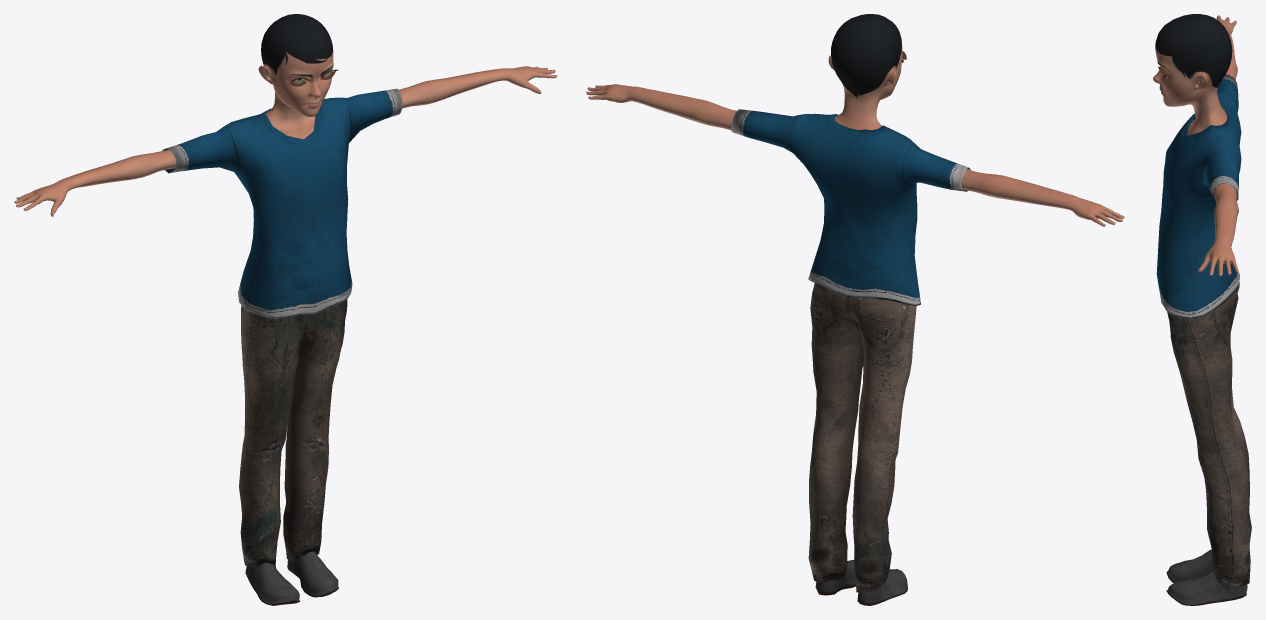
File: child2.obj
3 renders of one model, left to right at view 1: azimuth 30°, elevation 25°; view 2: azimuth 150°, elevation 25°; view 3: azimuth 270°, elevation 25°, orthographic.
Parts seen in each view (by area): view 1: Tops, Bottoms, Body, Shoes; view 2: Bottoms, Tops, Body, Shoes; view 3: Bottoms, Tops, Body, Shoes.
Boxes of the visible parts, box(x1,y1,x2,y2) form: Tops: box(162, 88, 402, 318); Bottoms: box(239, 299, 347, 567); Body: box(14, 14, 557, 216); Shoes: box(245, 511, 338, 605); Bottoms: box(808, 283, 916, 592); Tops: box(731, 109, 970, 306); Body: box(586, 14, 1124, 226); Shoes: box(815, 532, 907, 605); Bottoms: box(1167, 286, 1251, 589); Tops: box(1156, 74, 1241, 318); Body: box(1153, 14, 1238, 276); Shoes: box(1166, 549, 1247, 605).
Bounding box in the file's own units: 163 × 167 × 25.99.
Materials: 4 (4 with a texture image).
